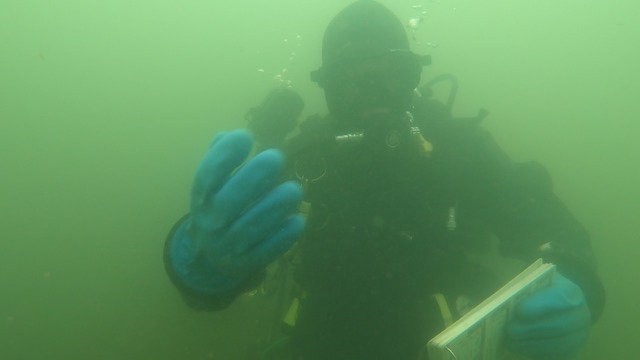Diver: (135, 1, 603, 355)
Hand: (150, 116, 306, 329), (486, 254, 589, 349)
Head: (295, 4, 450, 167)
